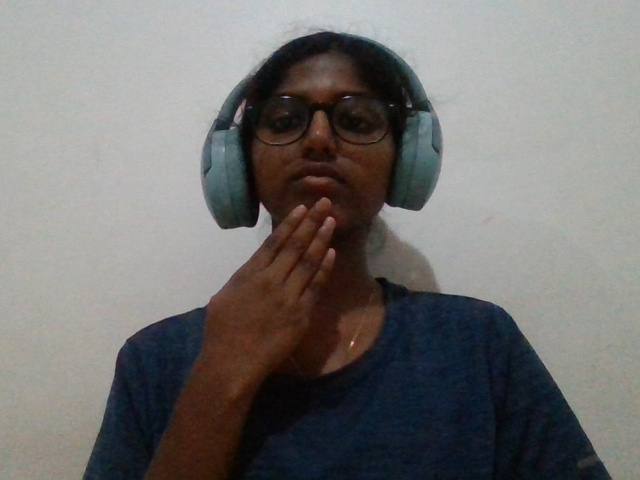Thanks: (143, 115, 383, 438)
